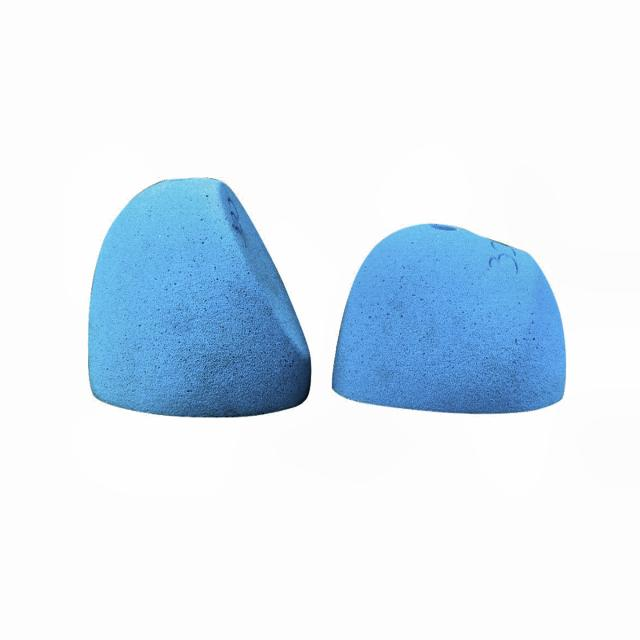Hold: (92, 178, 316, 416), (331, 216, 568, 412)
